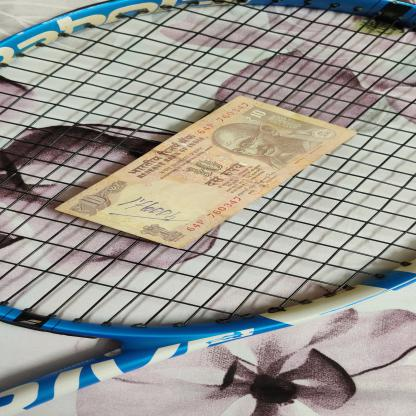Old10Front: (53, 95, 360, 250)
